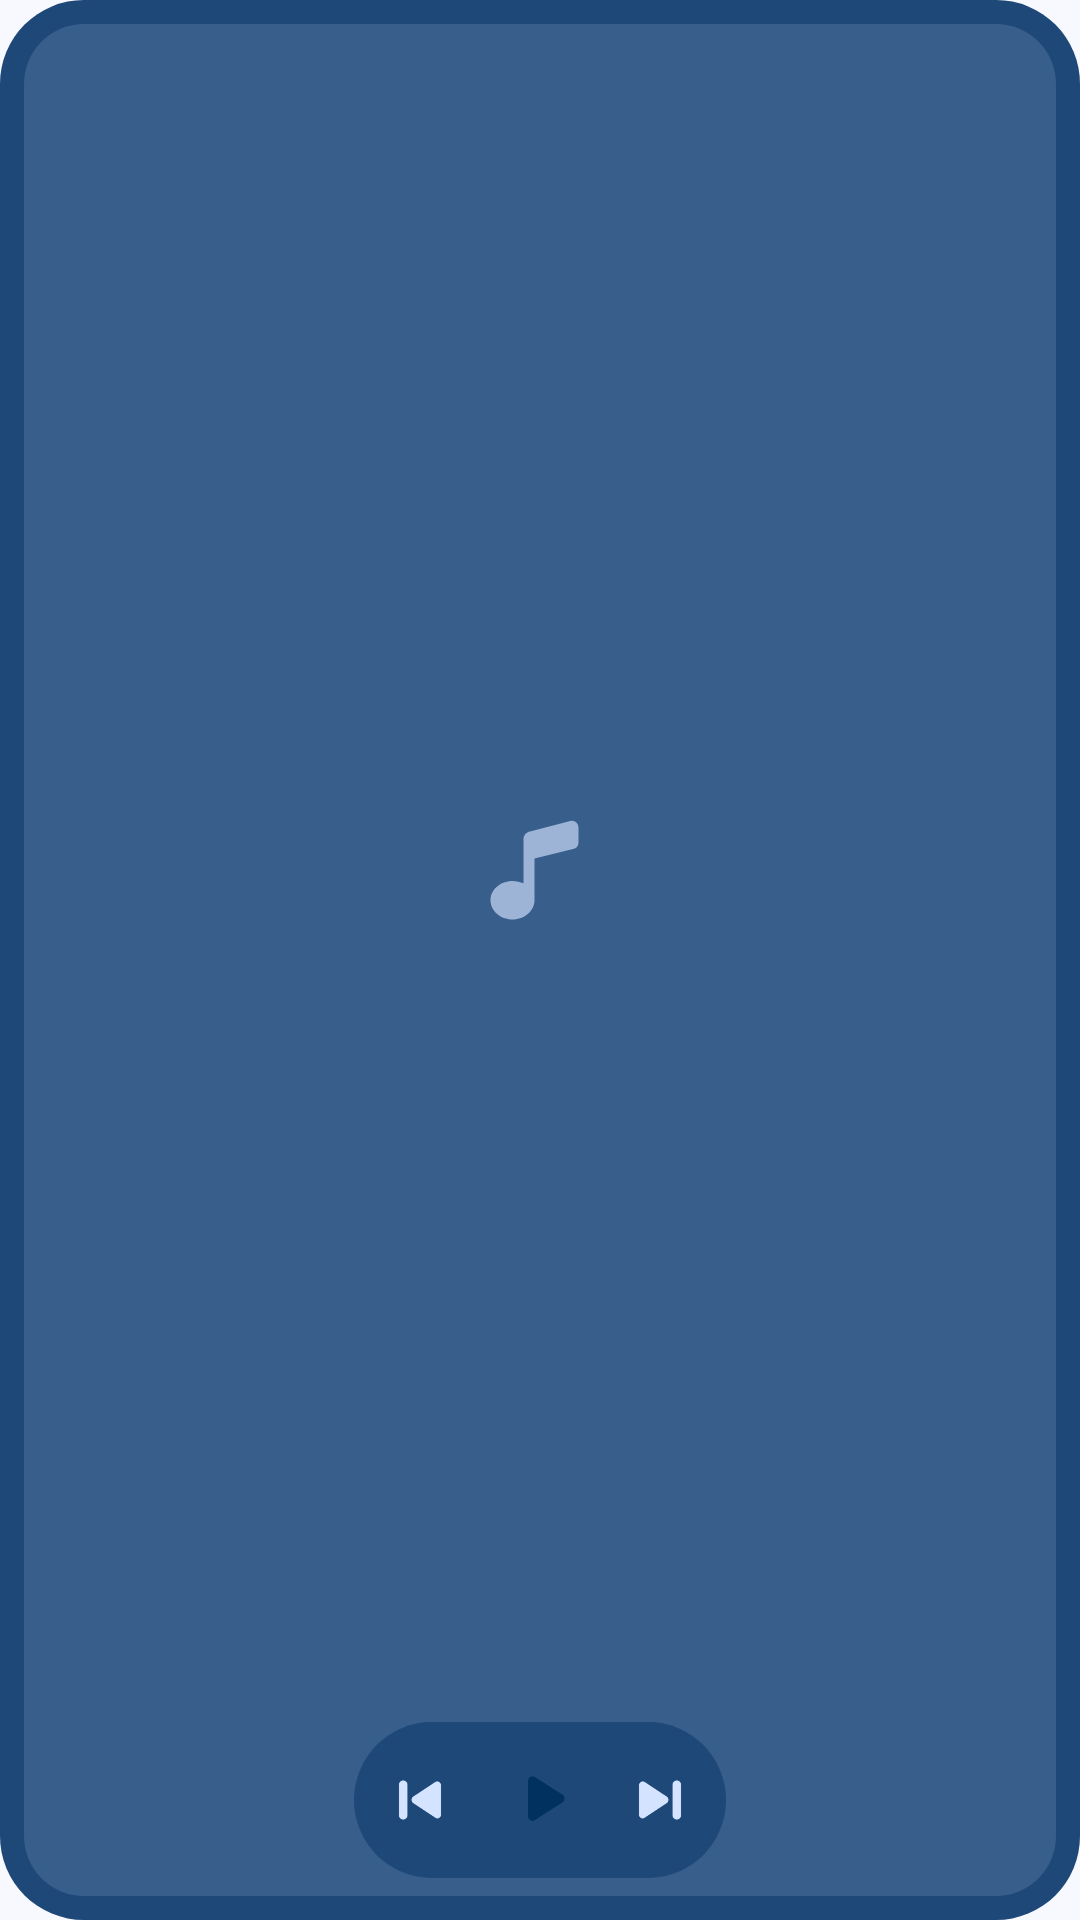

Icons on this 1080px x 1920px Android screen, each with the point to tap as (x,y):
widget note: (534,870)
